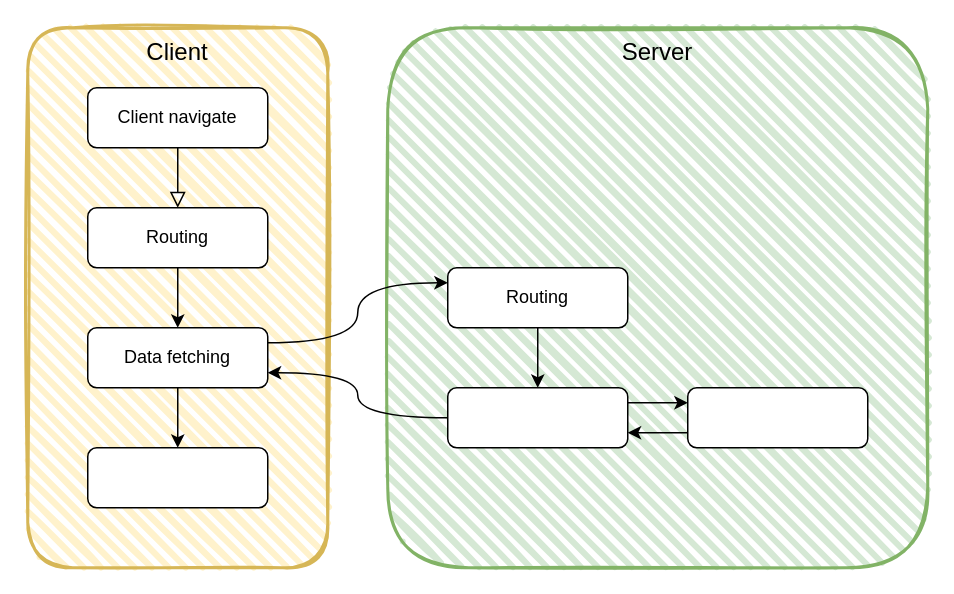
The diagram is 954 pixels wide and 594 high, and some of its shapes have lost their labels. The shapes that lost their labels are listed below. From the top down, each one's box as (x1, y1, x2, y2) in pixels, then its label:
(446, 386, 628, 448): Controller
(686, 386, 868, 448): Database
(86, 446, 268, 508): Rendering (View)
